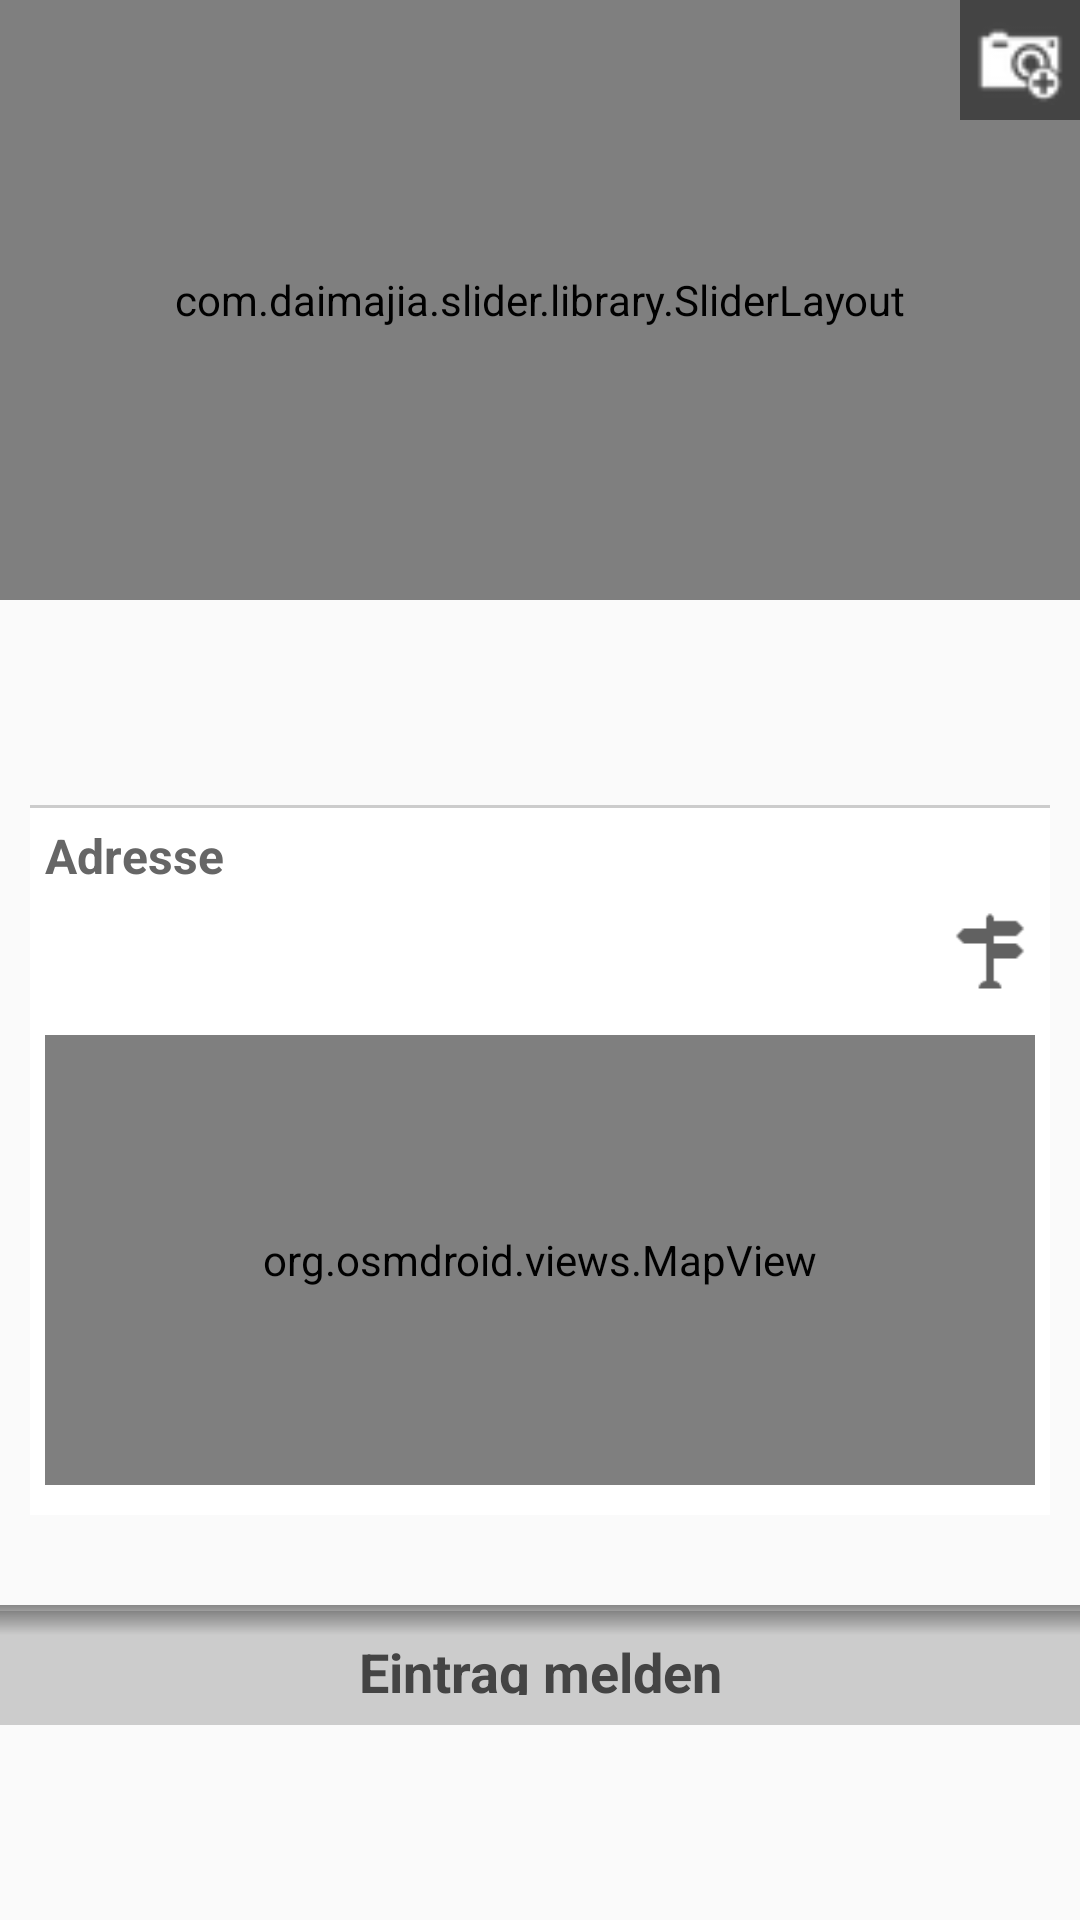

Icon click points for this 1080x1920 phone screenshot, format (x,y):
add picture: (1020,60)
route: (990,951)
